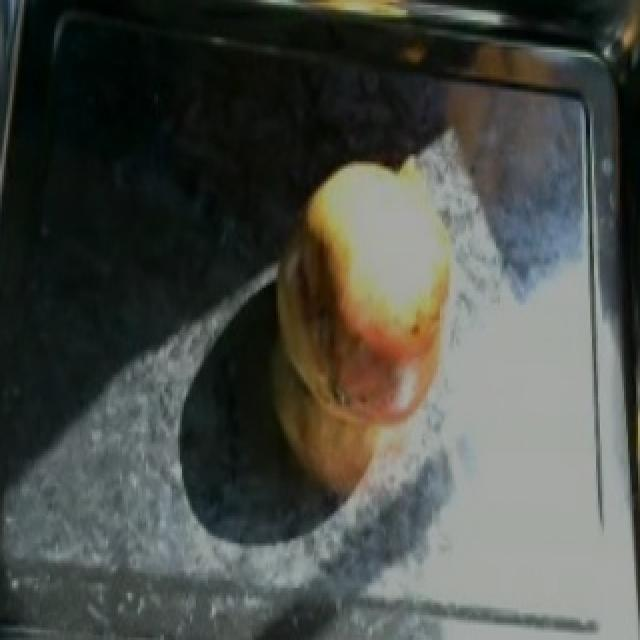fruit: (258, 174, 464, 454)
